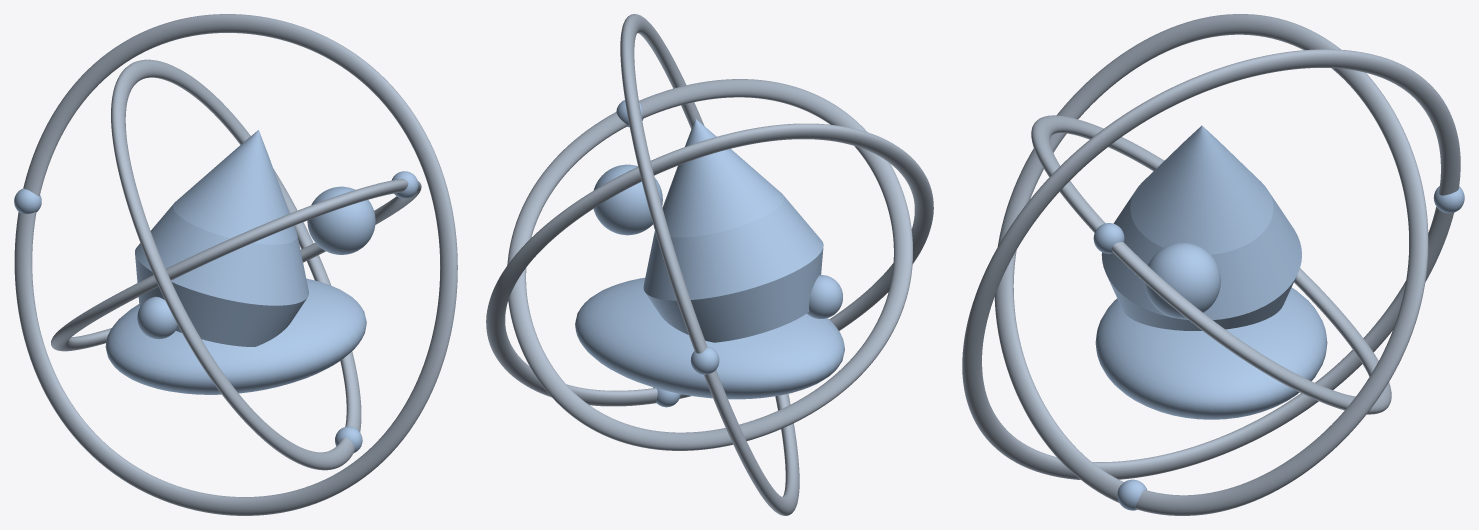
3 renders of one model, left to right at view 1: azimuth 30°, elevation 25°; view 2: azimuth 150°, elevation 25°; view 3: azimuth 270°, elevation 25°, orthographic. The views are drawn at different scales.
Size of the model in its own units: 0.9472 by 1.11 by 1.05.
